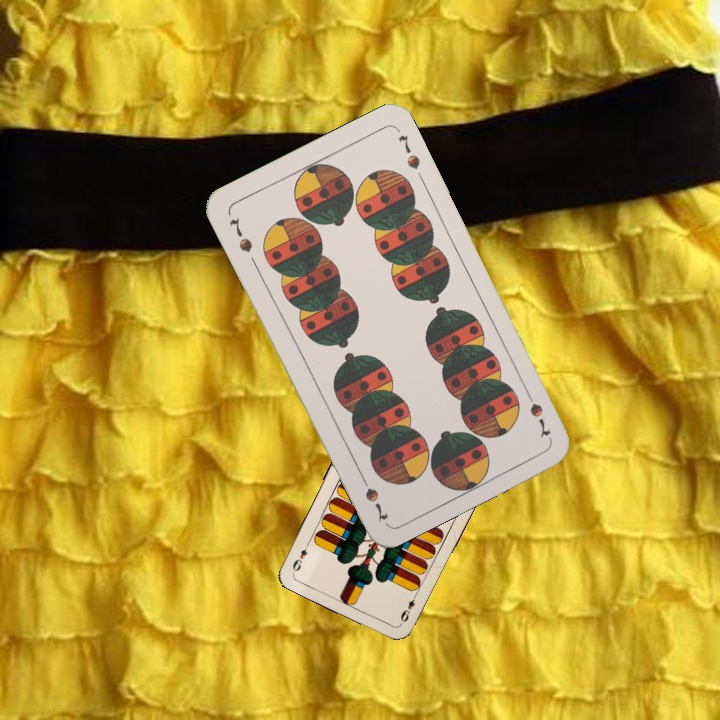E9: (396, 590, 420, 627)
S7: (521, 385, 554, 440), (225, 213, 256, 256)
